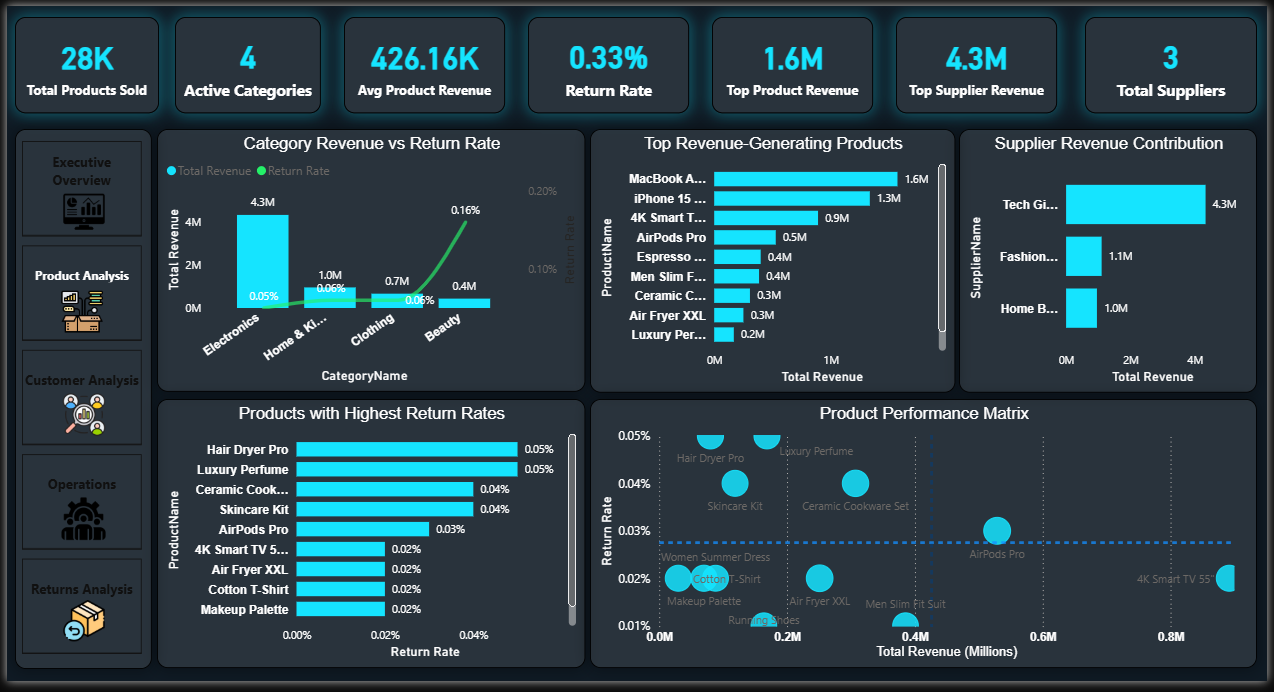

The page's visual inventory and layout, read from the dashboard file:
{"tool":"powerbi","page":{"name":"Product Analysis","canvas":[1400,750],"ordinal":1},"visuals":[{"type":"lineClusteredColumnComboChart","title":"Category Revenue vs Return Rate","fields":{"Category":["Categories.CategoryName"],"Y":["Categories.Total Revenue"],"Y2":["Categories.Return Rate"]},"box":[166.7,136.7,475.6,292.2],"z":0},{"type":"barChart","title":"Supplier Revenue Contribution","fields":{"Category":["Suppliers.SupplierName"],"Y":["Categories.Total Revenue"]},"box":[1057.8,136.7,331.1,293.3],"z":1000},{"type":"clusteredBarChart","title":"Top Revenue-Generating Products","fields":{"Category":["Products.ProductName"],"Y":["Categories.Total Revenue"]},"box":[647.8,136.7,405.6,293.3],"z":2000},{"type":"clusteredBarChart","title":"Products with Highest Return Rates","fields":{"Category":["Products.ProductName"],"Y":["Categories.Return Rate"]},"box":[166.7,436.7,475.6,298.9],"z":3000},{"type":"scatterChart","title":"Product Performance Matrix","fields":{"X":["Categories.Total Revenue"],"Y":["Categories.Return Rate"],"Category":["Products.ProductName"],"Size":["Categories.Total Products Sold"]},"box":[647.8,436.7,741.1,298.9],"z":4000},{"type":"card","fields":{"Values":["Categories.Total Products Sold"]},"box":[9,12,160,107],"z":5000},{"type":"card","fields":{"Values":["Products.Active Categories"]},"box":[186.6,12,162,107],"z":6000},{"type":"card","fields":{"Values":["Products.Avg Product Revenue"]},"box":[374.2,12,179,107],"z":7000},{"type":"card","fields":{"Values":["Categories.Return Rate"]},"box":[578.8,12,179,107],"z":8000},{"type":"card","fields":{"Values":["Products.Top Product Revenue"]},"box":[783.4,12,179,107],"z":9000},{"type":"card","fields":{"Values":["Products.Top Supplier Revenue"]},"box":[988,12,179,107],"z":10000},{"type":"card","fields":{"Values":["Suppliers.Total Suppliers"]},"box":[1198,12,191,107],"z":11000},{"type":"group","id":"g1","title":"Group 1","box":[9,137,152,600],"z":12000},{"type":"image","box":[25,205,119,46],"z":13000},{"type":"shape","box":[9,137,152,600],"z":14000,"group":"g1"},{"type":"image","box":[26,316,115,48],"z":14000},{"type":"image","box":[25,430,119,48],"z":15000},{"type":"image","box":[25,545,119,49],"z":16000},{"type":"image","box":[25,660,119,46],"z":17000},{"type":"pageNavigator","box":[17,150.3,133,573.3],"z":21000,"group":"g1"}]}

Visuals, with their boxes in screenshot pixels (x1, y1, x2, y2), scaled from the page's 1400x750 canvas onto the 1274x692 screenshot:
"Category Revenue vs Return Rate" lineClusteredColumnComboChart: box(152, 126, 584, 396)
"Supplier Revenue Contribution" barChart: box(963, 126, 1264, 397)
"Top Revenue-Generating Products" clusteredBarChart: box(589, 126, 959, 397)
"Products with Highest Return Rates" clusteredBarChart: box(152, 403, 584, 679)
"Product Performance Matrix" scatterChart: box(589, 403, 1264, 679)
card - Categories.Total Products Sold: box(8, 11, 154, 110)
card - Products.Active Categories: box(170, 11, 317, 110)
card - Products.Avg Product Revenue: box(341, 11, 503, 110)
card - Categories.Return Rate: box(527, 11, 690, 110)
card - Products.Top Product Revenue: box(713, 11, 876, 110)
card - Products.Top Supplier Revenue: box(899, 11, 1062, 110)
card - Suppliers.Total Suppliers: box(1090, 11, 1264, 110)
"Group 1" group: box(8, 126, 147, 680)
image: box(23, 189, 131, 232)
shape: box(8, 126, 147, 680)
image: box(24, 292, 128, 336)
image: box(23, 397, 131, 441)
image: box(23, 503, 131, 548)
image: box(23, 609, 131, 651)
pageNavigator: box(15, 139, 136, 668)
